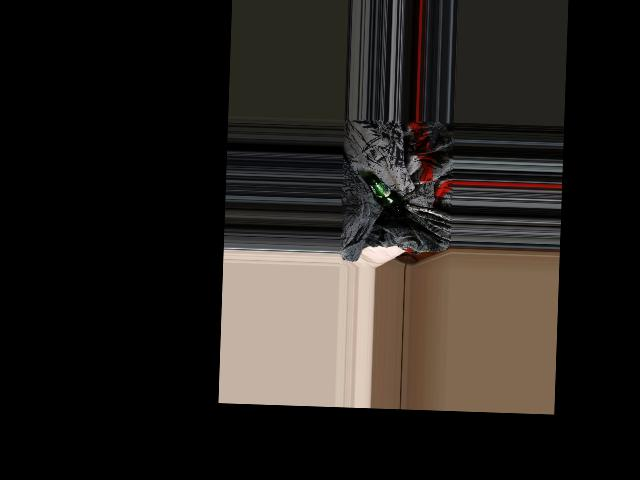beer: (365, 173, 407, 217)
